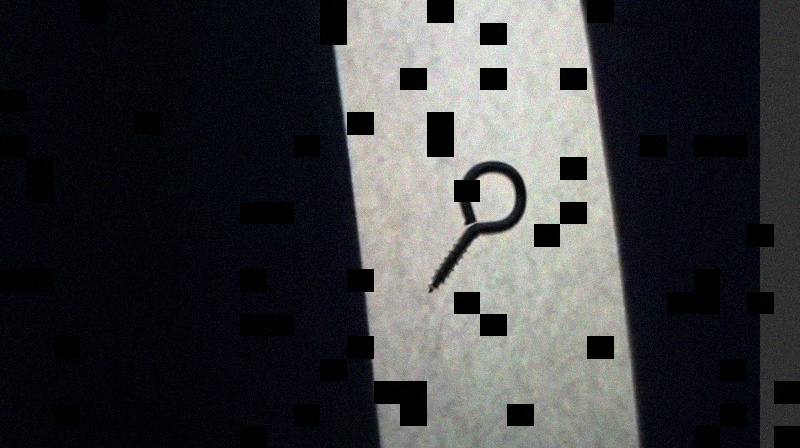O001: (422, 157, 529, 298)
